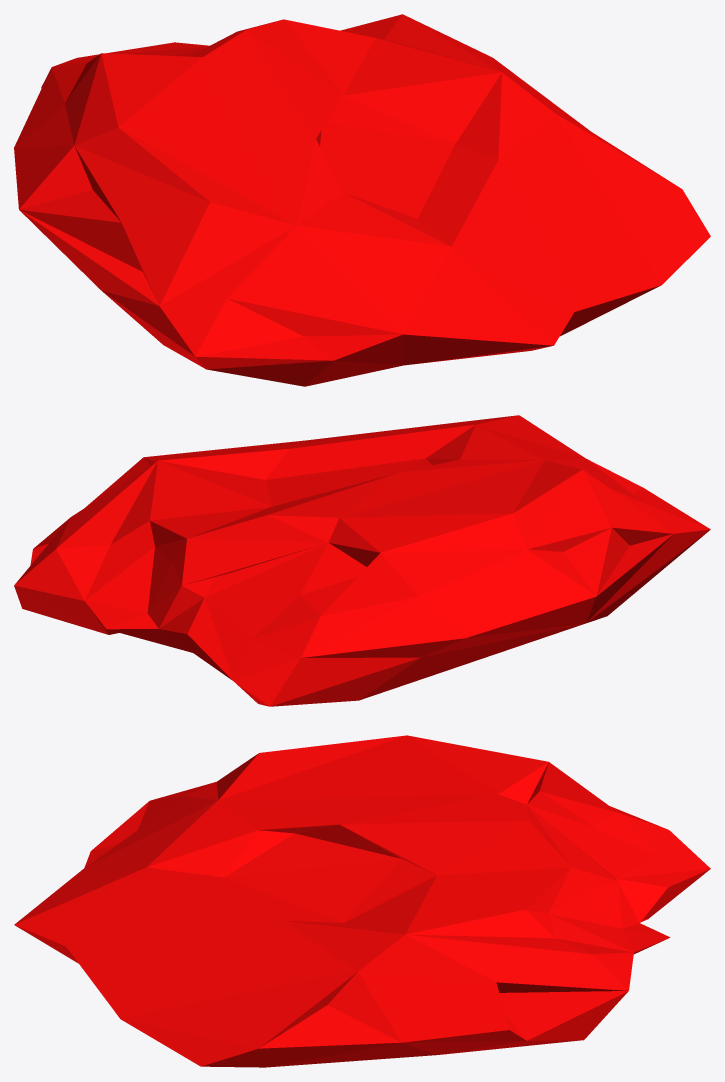
Rendered from meteor_red_form_core_01.glb.
3 views of the same model, one above another, from view 1: azimuth 30°, elevation 25°; view 2: azimuth 150°, elevation 25°; view 3: azimuth 270°, elevation 25° (orthographic). The views are drawn at different scales.
Parts seen in each view (by area): view 1: Mesh1.002; view 2: Mesh1.002; view 3: Mesh1.002.
Part boxes in pixels (x1,y1,x2,y2): Mesh1.002: (14, 14, 710, 386); Mesh1.002: (14, 415, 710, 706); Mesh1.002: (14, 735, 710, 1067).
Bounding box in the file's own units: 1.47 × 0.3851 × 1.73.
